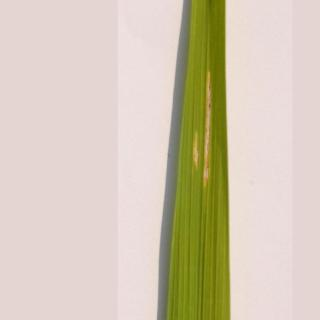Hawar-Daun: (189, 65, 225, 203)
